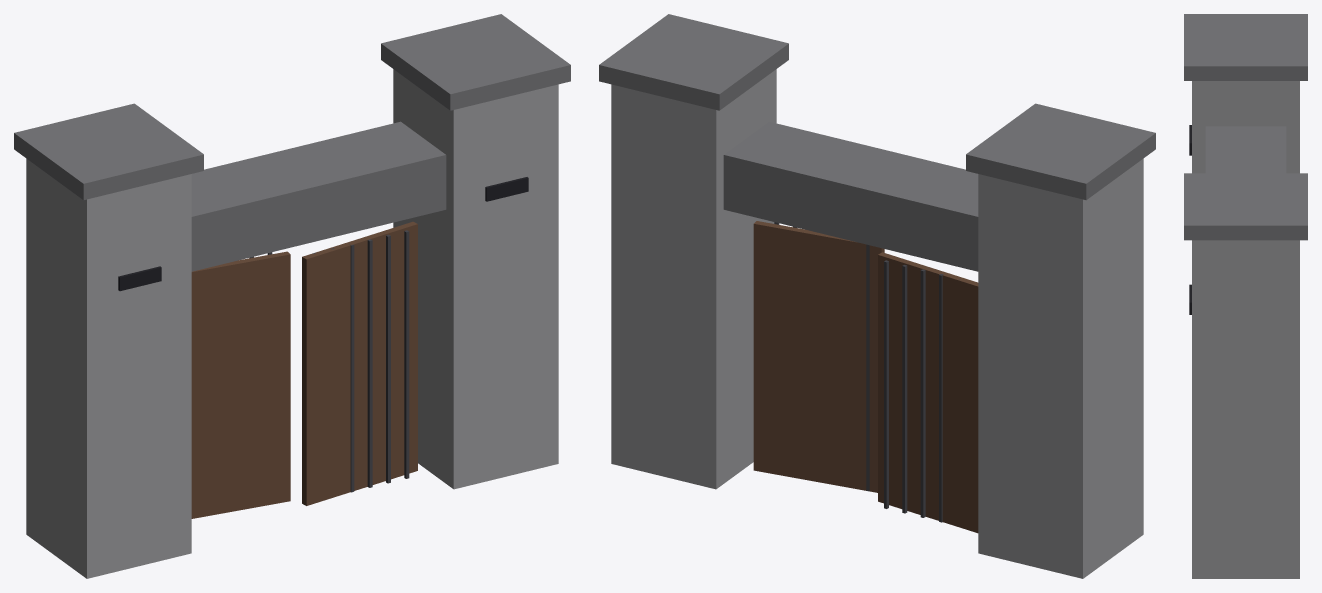
Rendered from v2_gate.glb.
3 renders of one model, left to right at view 1: azimuth 30°, elevation 25°; view 2: azimuth 150°, elevation 25°; view 3: azimuth 270°, elevation 25°, orthographic. The views are drawn at different scales.
Visible parts, largest first — view 1: v2_gate; view 2: v2_gate; view 3: v2_gate.
Part boxes in pixels (x1,y1,x2,y2): v2_gate: (14, 14, 570, 578); v2_gate: (599, 14, 1155, 578); v2_gate: (1184, 14, 1307, 578).
Bounding box in the file's own units: 18.6 × 14.6 × 4.6.
